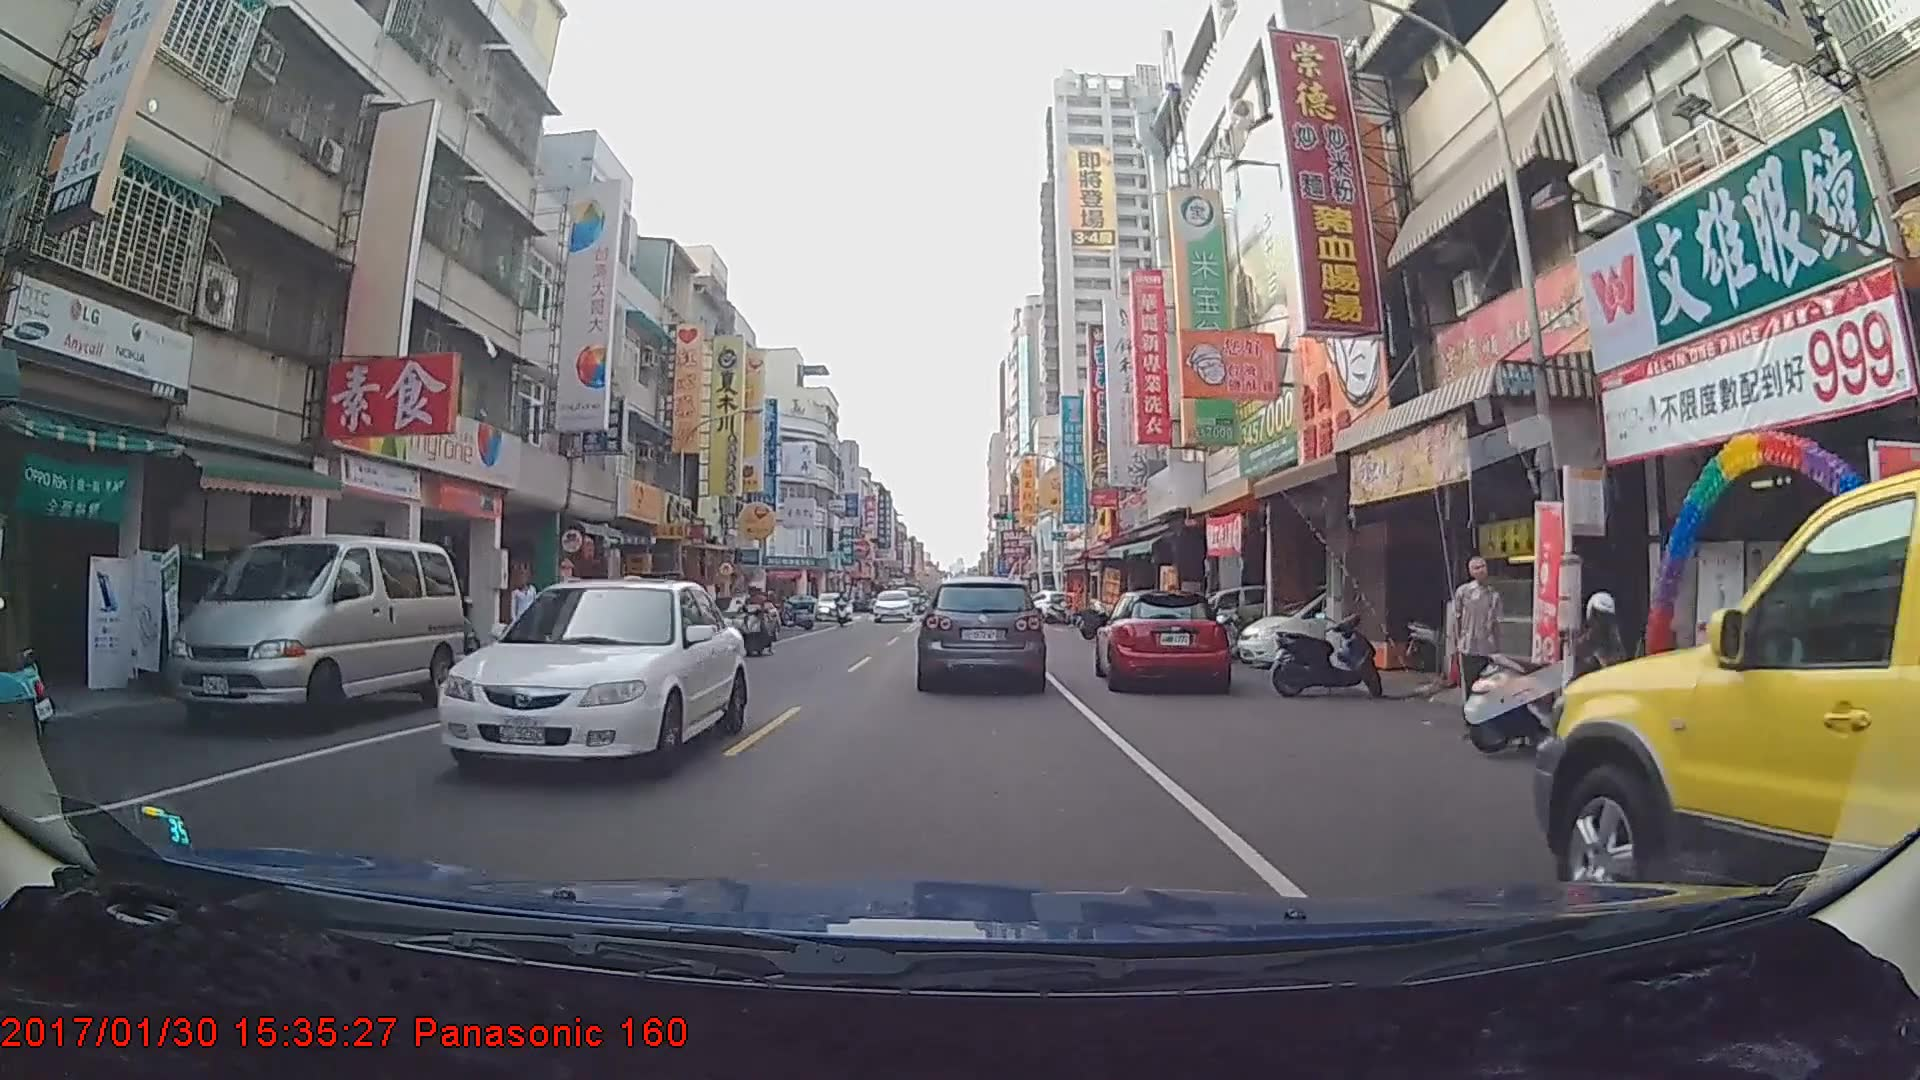pedestrian: (1451, 555, 1509, 737)
rider: (734, 578, 782, 654)
vehicle: (1538, 439, 1920, 988), (428, 569, 747, 783), (163, 530, 465, 733), (917, 574, 1044, 688), (1097, 590, 1231, 692), (691, 592, 779, 647), (870, 583, 913, 617), (812, 590, 852, 621)
